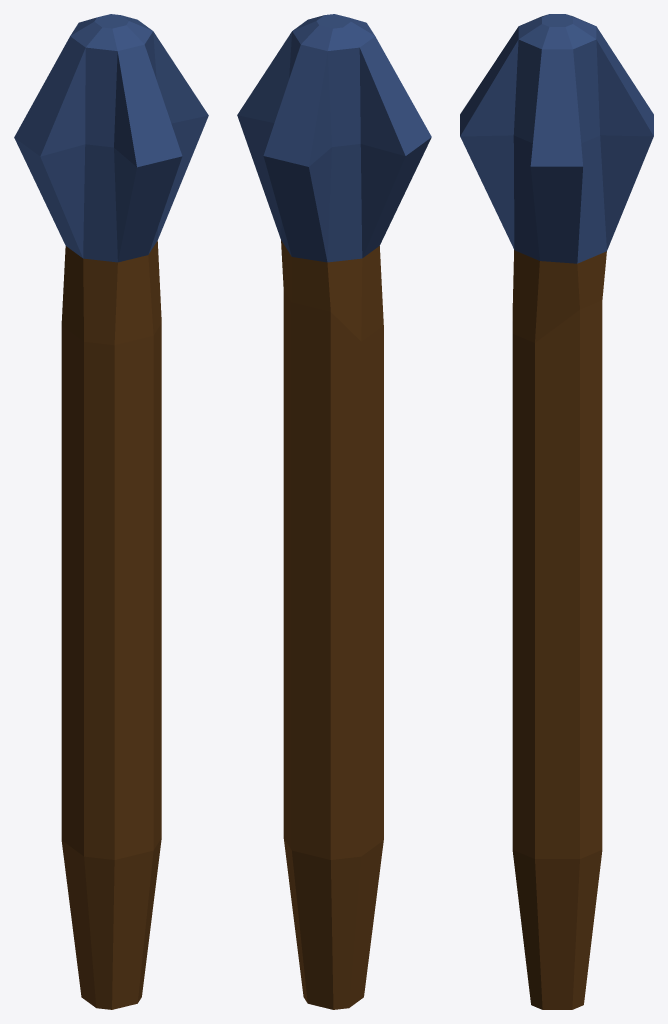
Rendered from MithrilMace.glb.
3 renders of one model, left to right at view 1: azimuth 30°, elevation 25°; view 2: azimuth 150°, elevation 25°; view 3: azimuth 270°, elevation 25°, orthographic.
Visible parts, largest first — view 1: Mace; view 2: Mace; view 3: Mace.
Boxes of the visible parts, x1,y1,x2,y2 form: Mace: (14,14,208,1009); Mace: (237,14,431,1009); Mace: (460,14,653,1009).
Size of the model in its own units: 0.1021 by 0.5647 by 0.1013.
